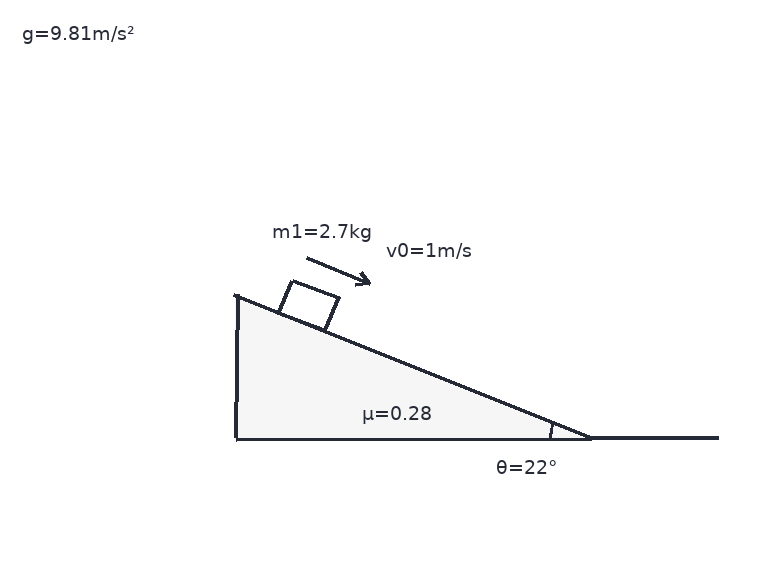block: (277, 277, 339, 333)
ramp: (234, 293, 592, 440)
